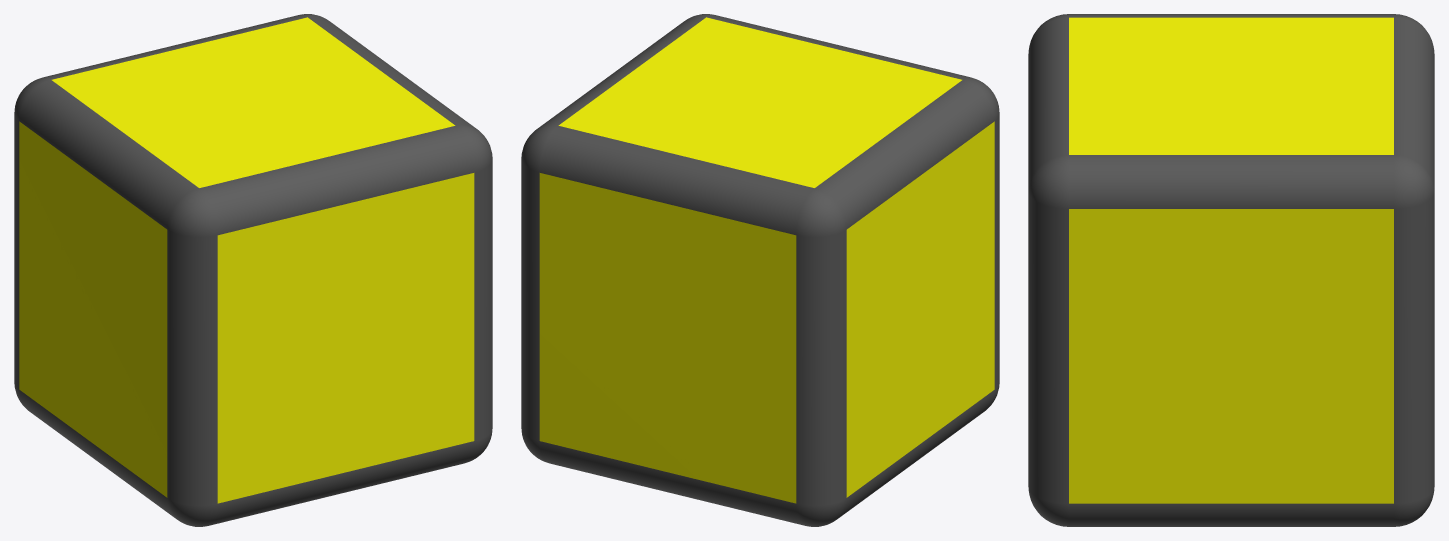
Rendered from stone3.glb.
The picture shows the model from 3 angles, left to right: view 1: azimuth 30°, elevation 25°; view 2: azimuth 150°, elevation 25°; view 3: azimuth 270°, elevation 25°; orthographic projection. The views are drawn at different scales.
Parts seen in each view (by area): view 1: Cube; view 2: Cube; view 3: Cube.
Boxes of the visible parts, box(x1,y1,x2,y2) form: Cube: box(14, 14, 492, 526); Cube: box(521, 14, 999, 526); Cube: box(1028, 14, 1434, 526).
Bounding box in the file's own units: 1 × 1 × 1.
